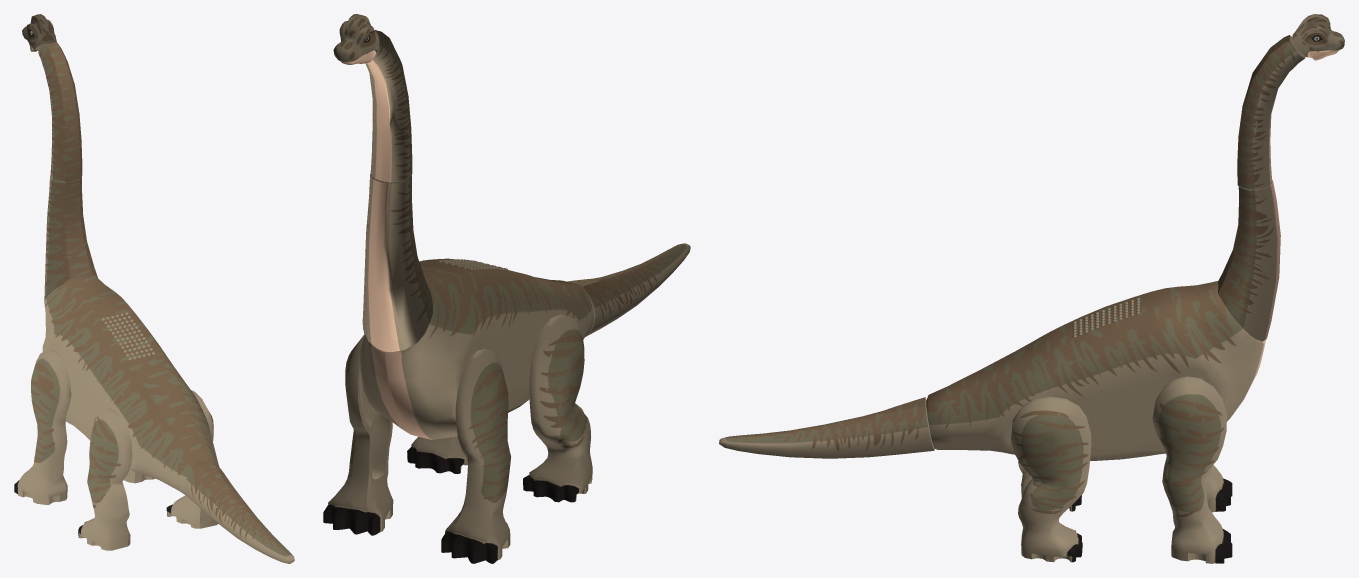
File: brachiosaurus.glb
The picture shows the model from 3 angles, left to right: view 1: azimuth 30°, elevation 25°; view 2: azimuth 150°, elevation 25°; view 3: azimuth 270°, elevation 25°; orthographic projection. The views are drawn at different scales.
Visible parts, largest first — view 1: Object_7, Object_9, Object_10, Object_2, Object_5, Object_4, Object_3, Object_11; view 2: Object_7, Object_9, Object_10, Object_2, Object_6, Object_4, Object_5, Object_3, Object_11; view 3: Object_7, Object_3, Object_6, Object_5, Object_2, Object_4, Object_11, Object_9.
Part boxes in pixels (x1,y1,x2,y2): Object_7: (42,273,219,495); Object_9: (14,349,71,504); Object_10: (78,408,132,550); Object_2: (44,175,97,300); Object_5: (184,461,294,563); Object_4: (38,41,82,181); Object_3: (166,390,218,528); Object_11: (22,14,56,51); Object_7: (360,258,594,439); Object_9: (441,349,510,563); Object_10: (523,314,592,502); Object_2: (362,173,432,351); Object_6: (323,335,393,535); Object_4: (365,30,412,182); Object_5: (567,243,690,336); Object_3: (407,436,467,473); Object_11: (333,14,379,61); Object_7: (926,281,1265,460); Object_3: (1011,396,1091,562); Object_6: (1152,376,1232,563); Object_5: (719,397,934,458); Object_2: (1218,179,1280,341); Object_4: (1237,35,1305,189); Object_11: (1292,14,1344,57); Object_9: (1204,465,1232,512).
Bounding box in the file's own units: 156 × 490 × 545.
Materials: 11 (11 with a texture image).
